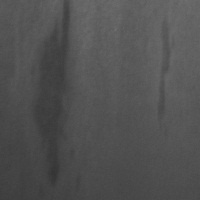inclusion: (29, 1, 73, 189), (154, 15, 180, 136)
